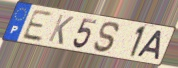1: (128, 25, 148, 59)
5: (72, 17, 99, 50)
A: (135, 30, 164, 62)
E: (20, 9, 54, 43)
K: (46, 13, 75, 46)
S: (92, 21, 122, 54)
